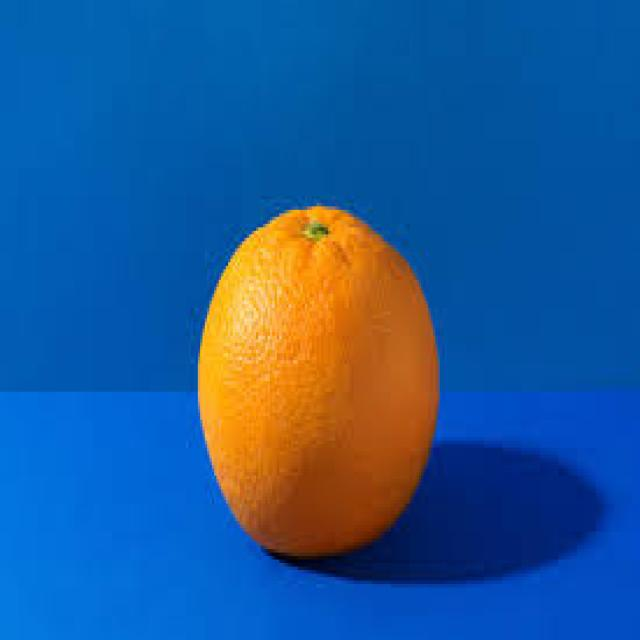orange: (195, 194, 439, 562)
